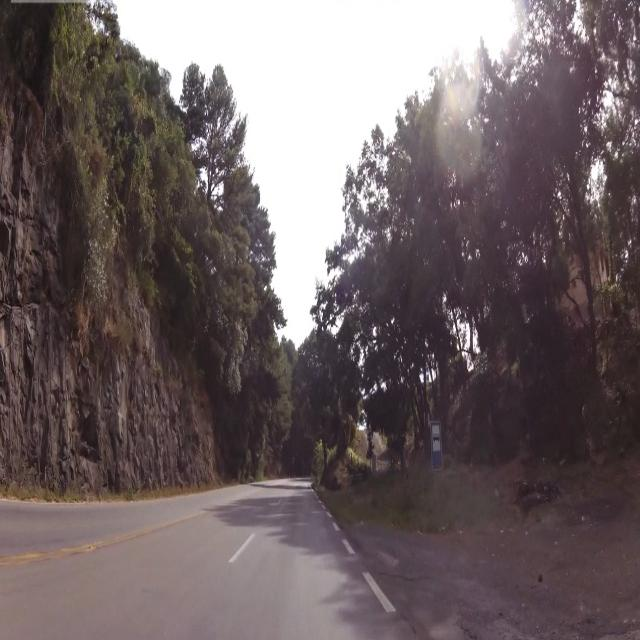S-14: (429, 418, 444, 473)
